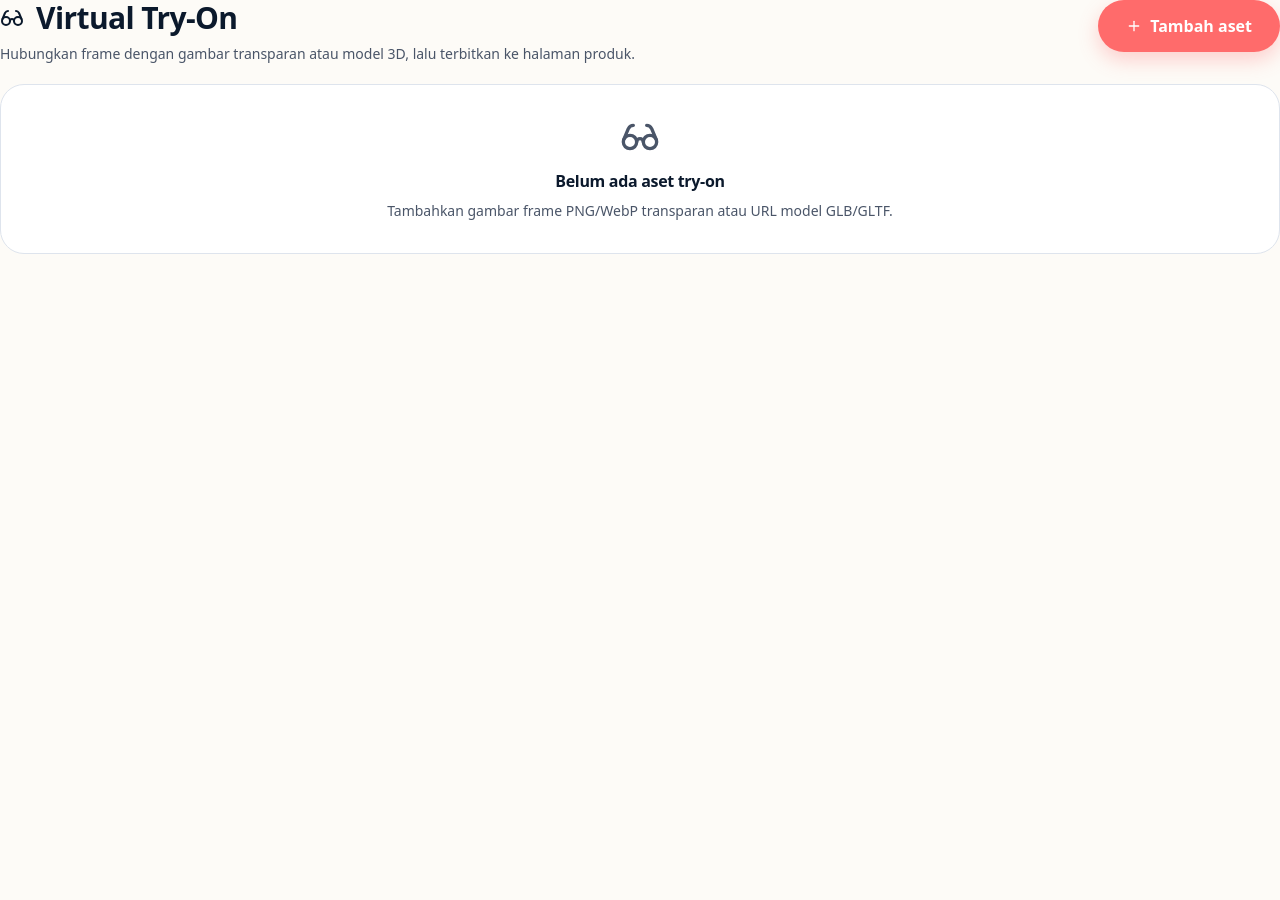
Test: product load failures remain visible in the dialog and support retry
Later steps or results of the test are not shown.
Click the button "Tambah aset" at (1189, 26), box [1098,0,1279,52]
Wait 200 ms
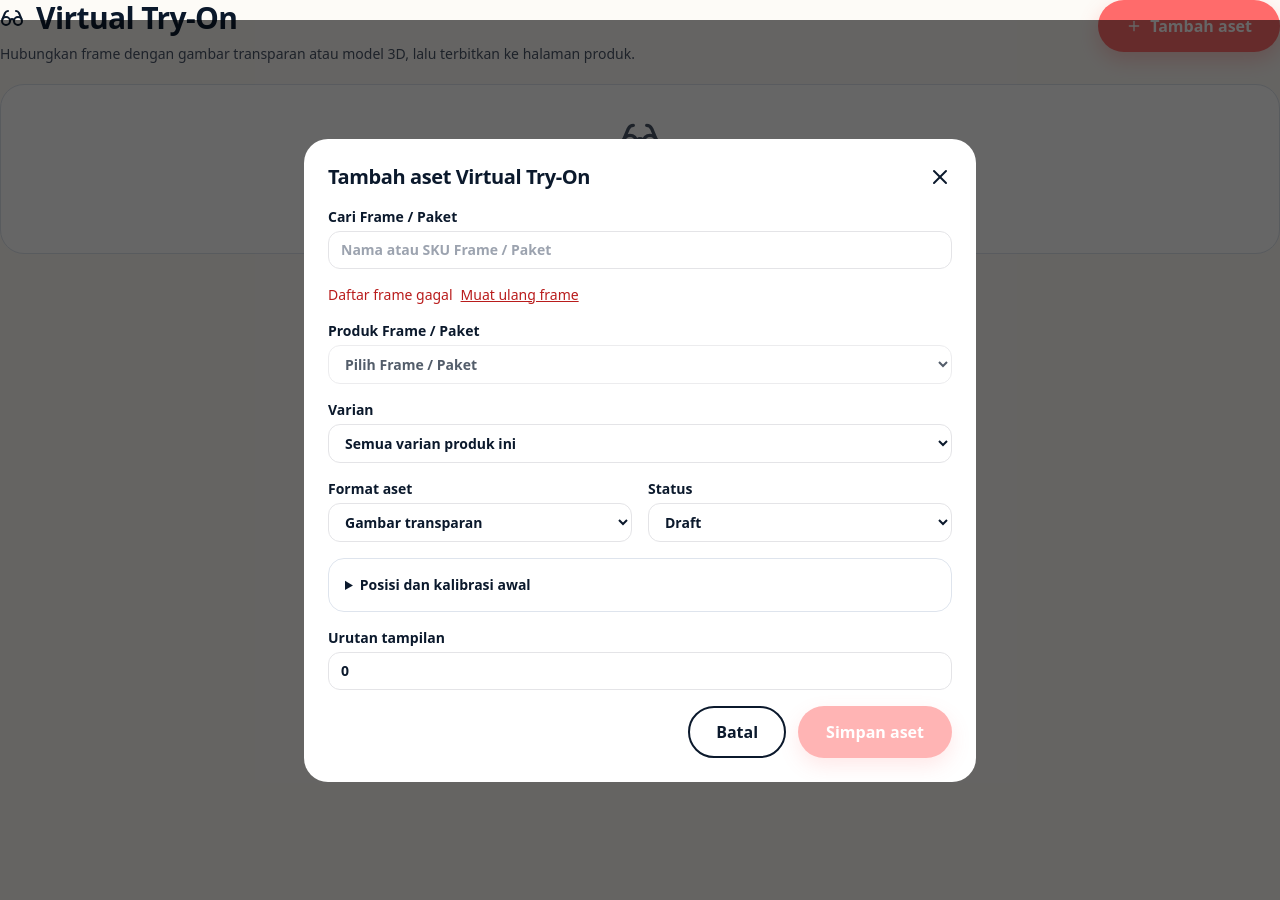
Now the message "Daftar frame gagal Muat ulang frame" is shown, box [328,284,579,304]
